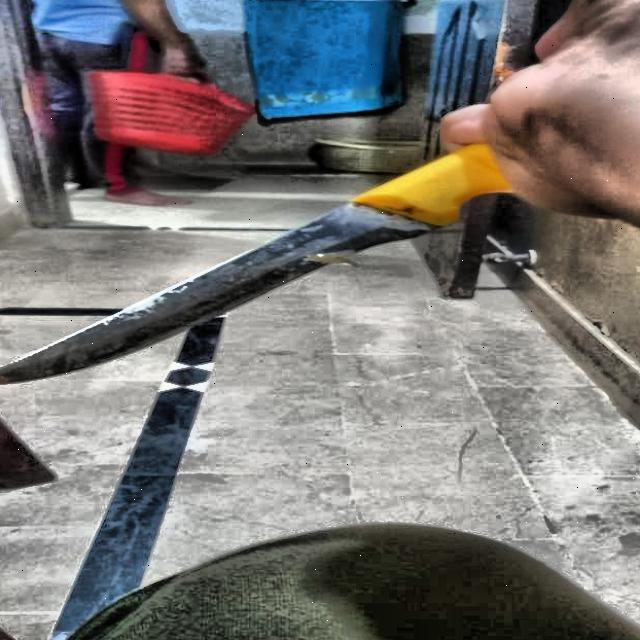knife: (0, 143, 519, 385)
